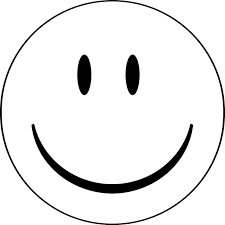feliz: (7, 10, 225, 219), (28, 37, 194, 196)
